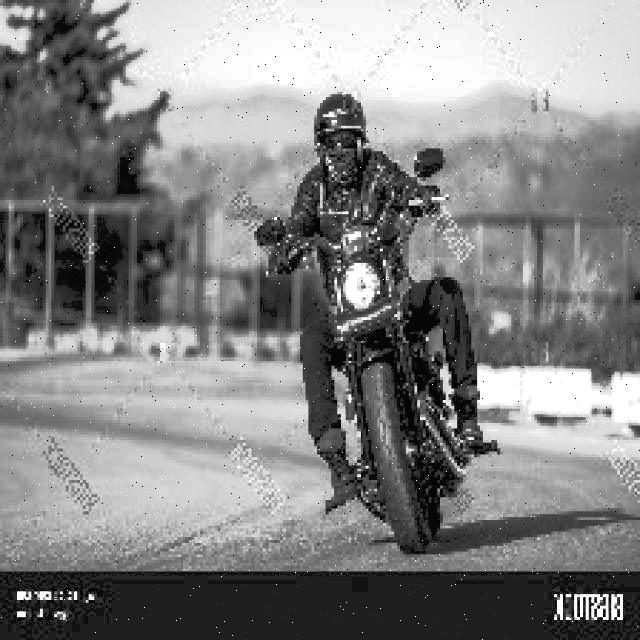Bike: (309, 215, 492, 565)
